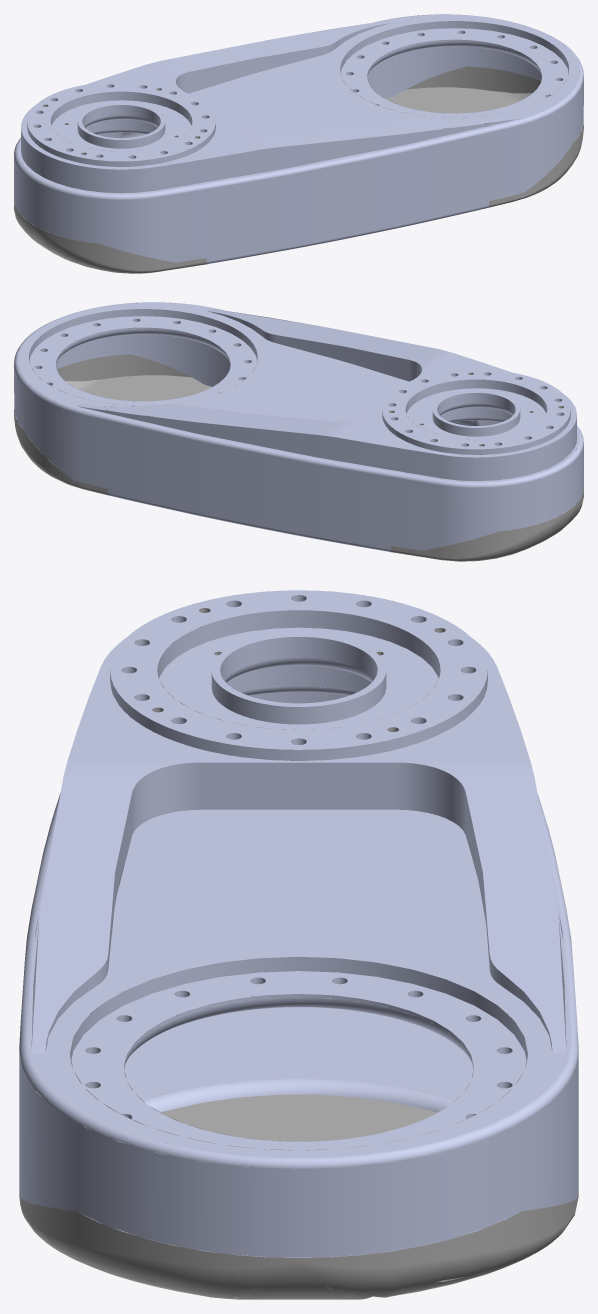
Rendered from monob_220.glb.
The picture shows the model from 3 angles, top to bottom: view 1: azimuth 30°, elevation 25°; view 2: azimuth 150°, elevation 25°; view 3: azimuth 270°, elevation 25°; orthographic projection. The views are drawn at different scales.
Parts seen in each view (by area): view 1: monob_220.IGS (×3); view 2: monob_220.IGS (×3); view 3: monob_220.IGS (×2).
Boxes of the visible parts, x1,y1,x2,y2 form: monob_220.IGS (×3): (14, 14, 583, 273); monob_220.IGS (×3): (14, 302, 583, 561); monob_220.IGS (×2): (19, 590, 578, 1299).
Size of the model in its own units: 0.3545 by 0.0689 by 0.16.
